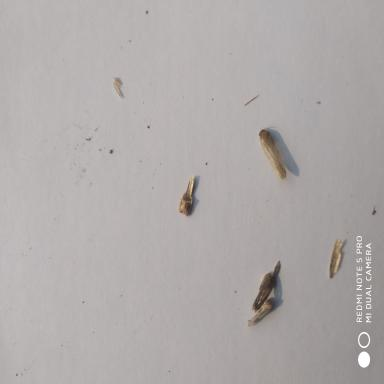pbw: (255, 126, 290, 182), (248, 270, 279, 314), (244, 298, 274, 331)
